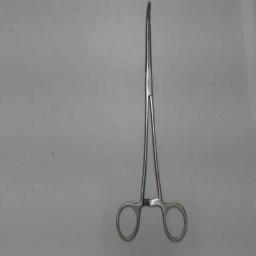Lahey Forceps: (113, 1, 193, 247)
